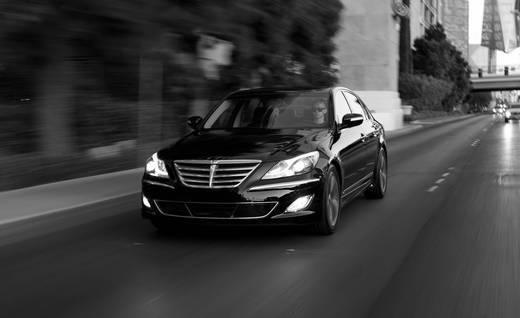car: (143, 89, 390, 238)
